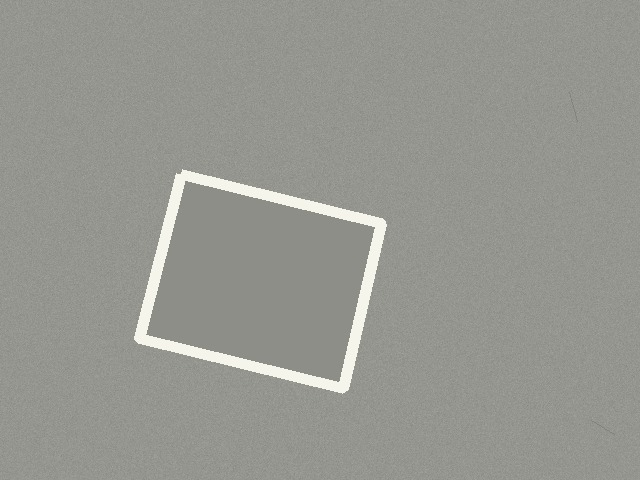parking_area: (139, 174, 381, 388)
